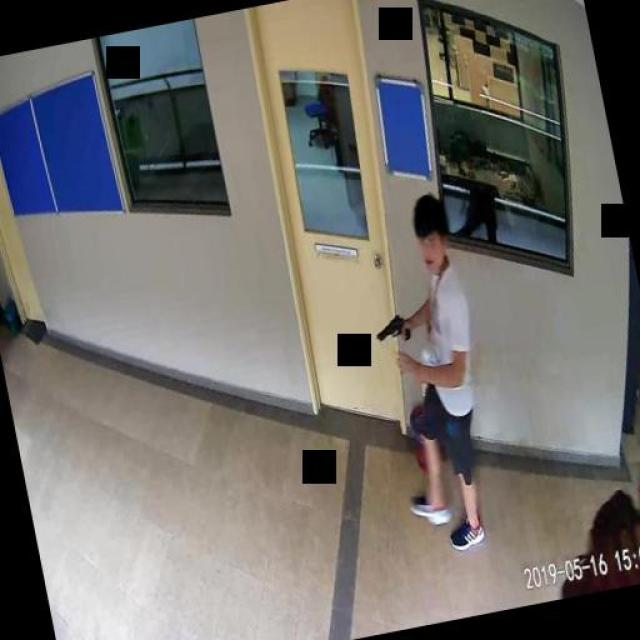gun: (372, 312, 412, 348)
